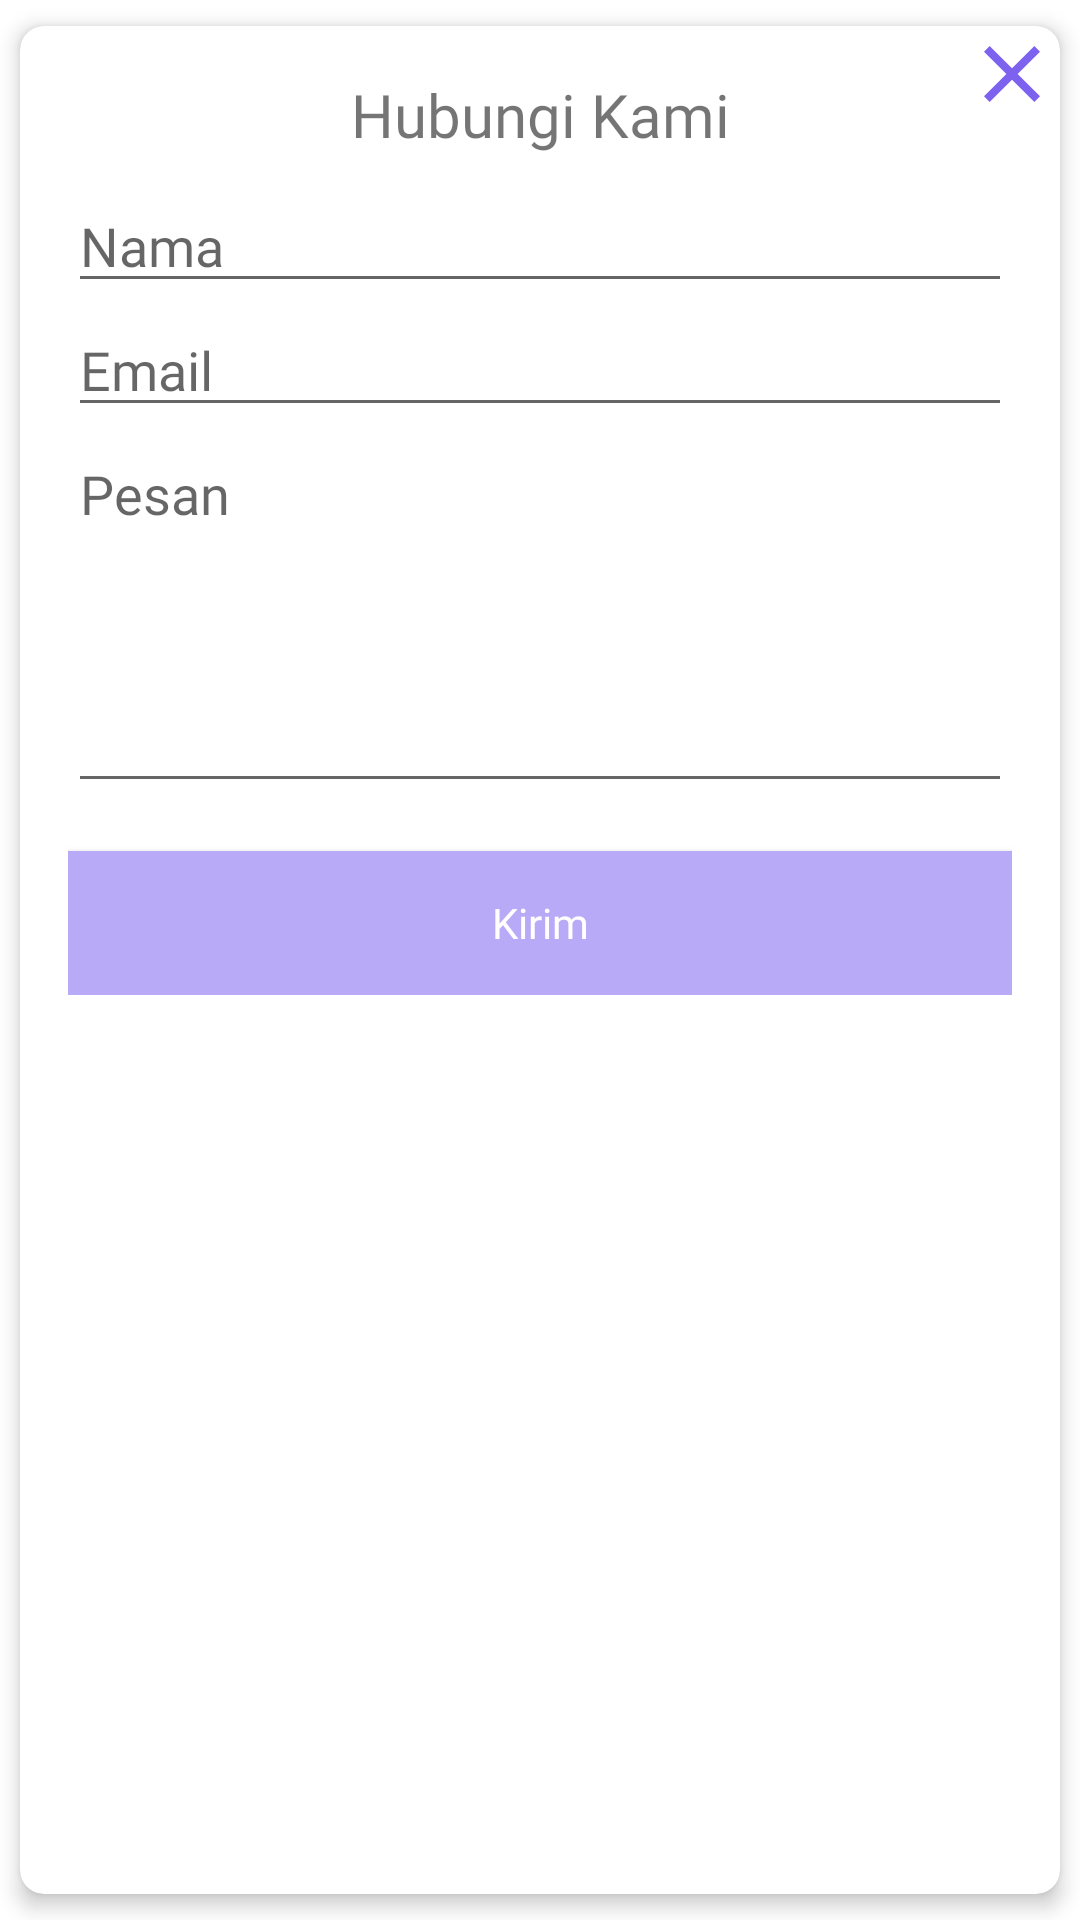

Screen size 1080*1920. Icon name, then its center in pixels as (x=x, y=y):
close: (x=1015, y=64)
